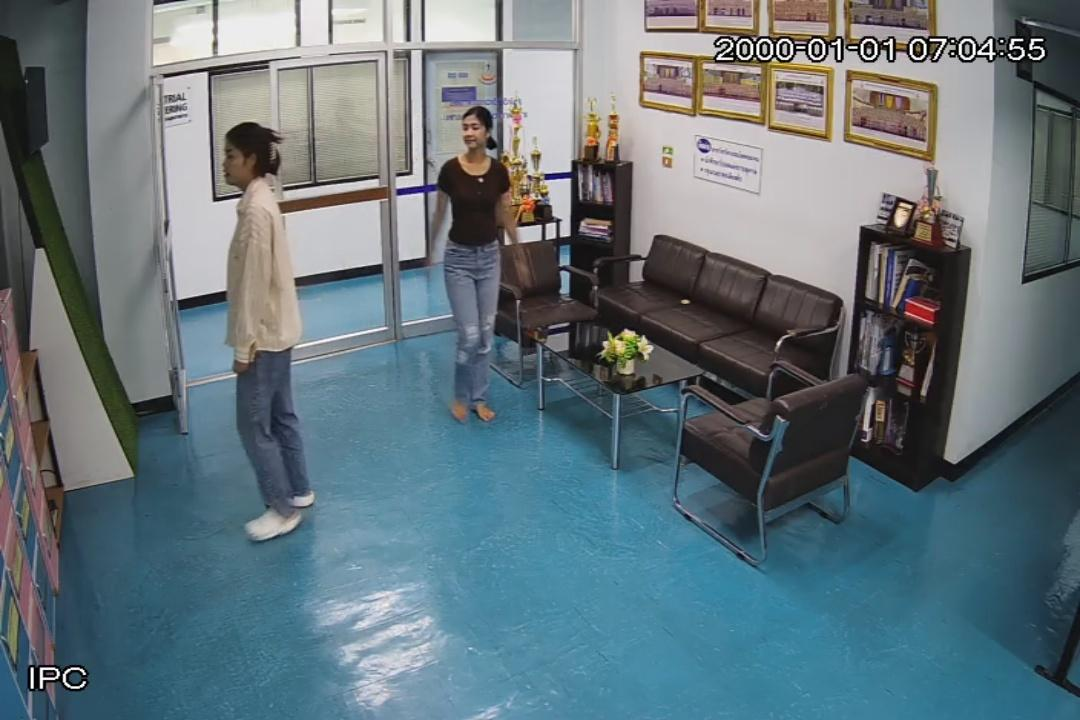normal: (218, 118, 318, 558), (418, 92, 526, 432)
